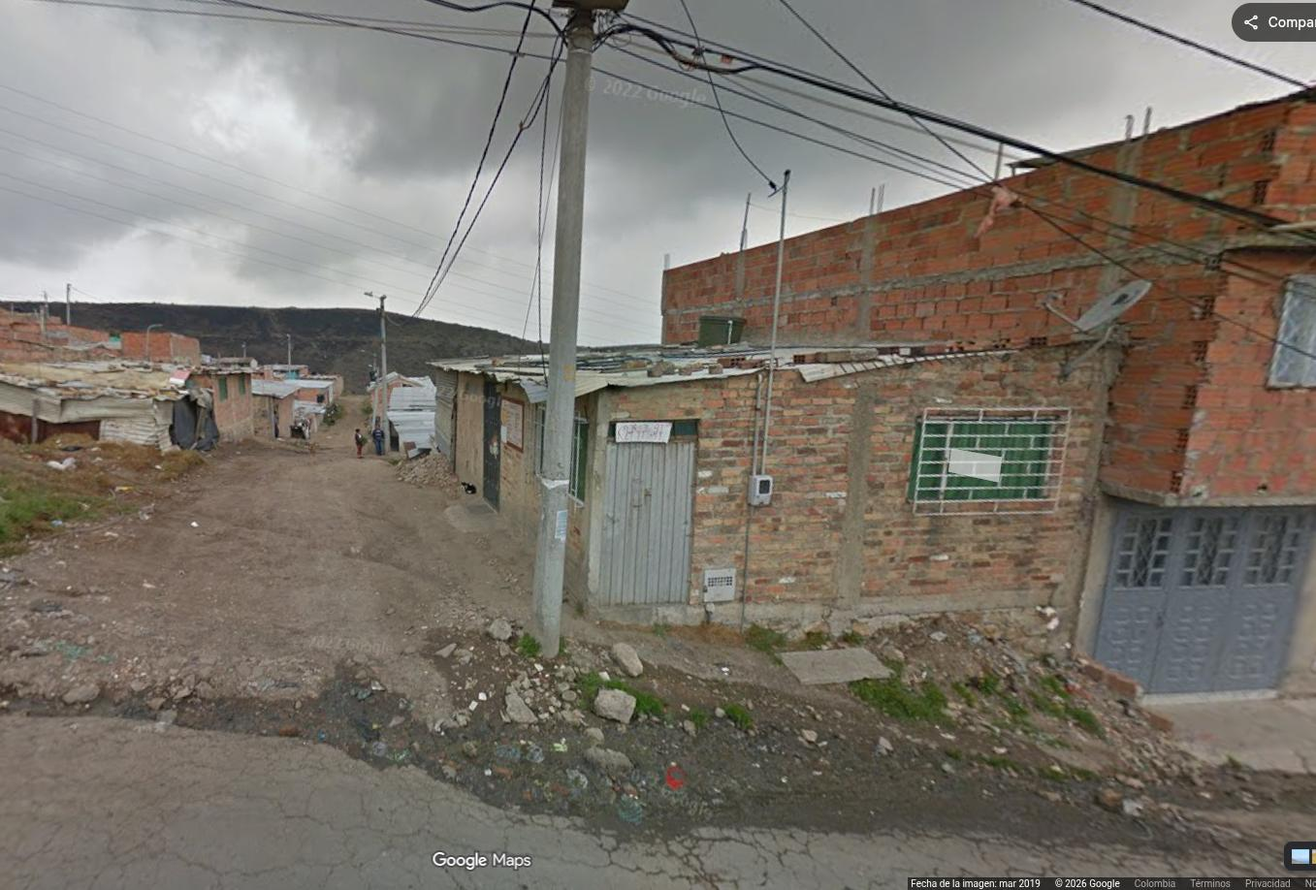casa: (567, 347, 1112, 633)
poste: (531, 0, 606, 656)
